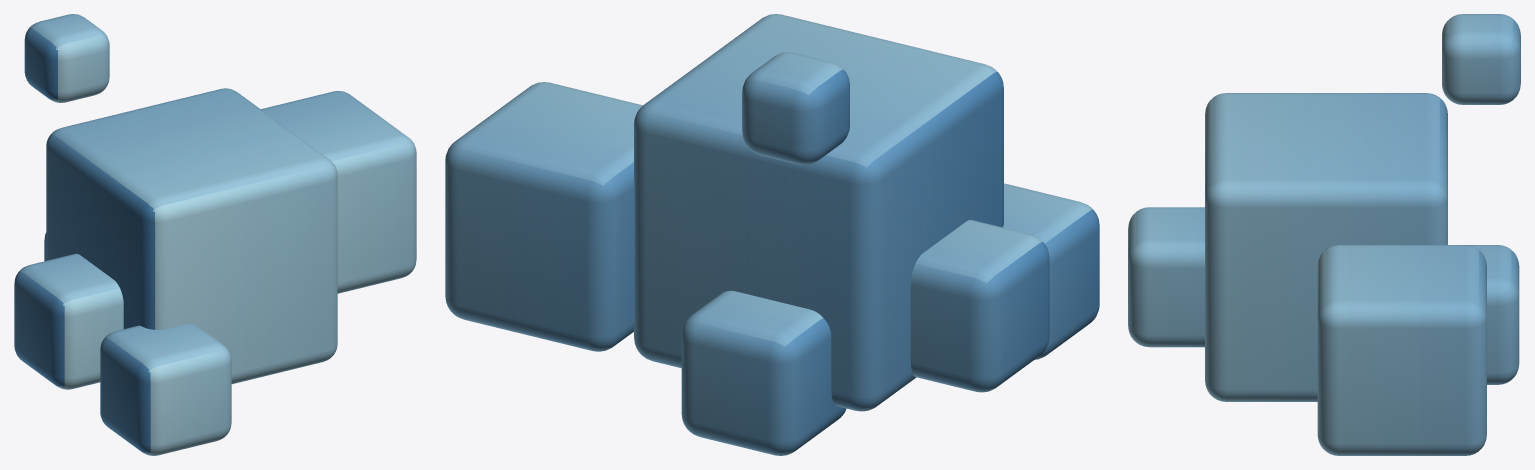
File: BlueTreeAnimatedLeaf.fbx
The picture shows the model from 3 angles, left to right: view 1: azimuth 30°, elevation 25°; view 2: azimuth 150°, elevation 25°; view 3: azimuth 270°, elevation 25°; orthographic projection. The views are drawn at different scales.
Parts seen in each view (by area): view 1: Cube.004; view 2: Cube.004; view 3: Cube.004.
Part boxes in pixels (x1,y1,x2,y2): Cube.004: [14, 14, 416, 455]; Cube.004: [445, 14, 1099, 455]; Cube.004: [1128, 14, 1520, 455].
Bounding box in the file's own units: 13.28 × 9.83 × 10.73.
Materials: 1 (1 with a texture image).
